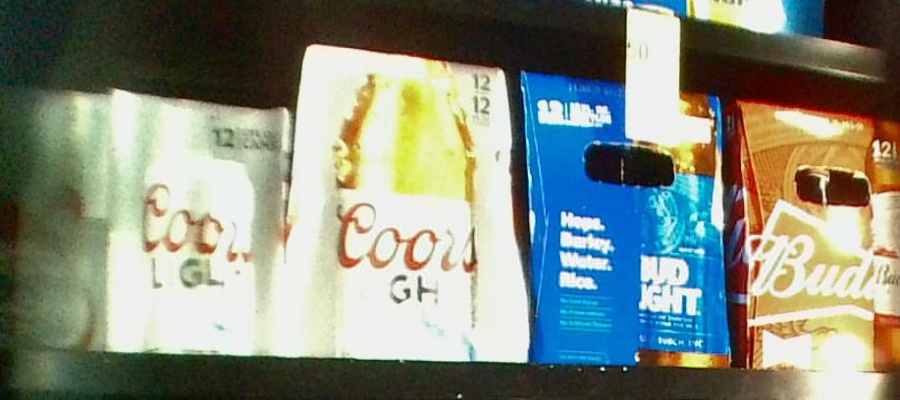bottle: (292, 45, 522, 358), (520, 71, 725, 373), (726, 101, 900, 371), (106, 90, 287, 348), (1, 90, 105, 349)
